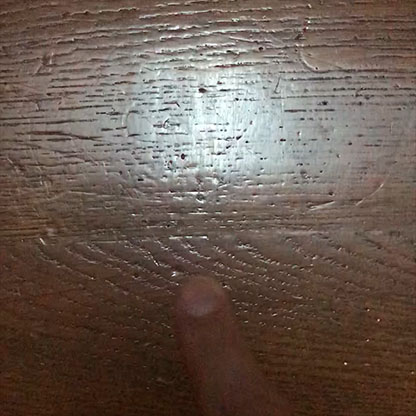fingertip: (159, 262, 235, 330)
